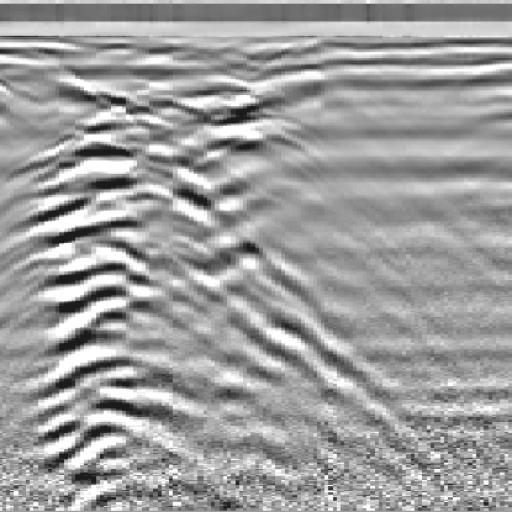metalic: (1, 66, 314, 459)
